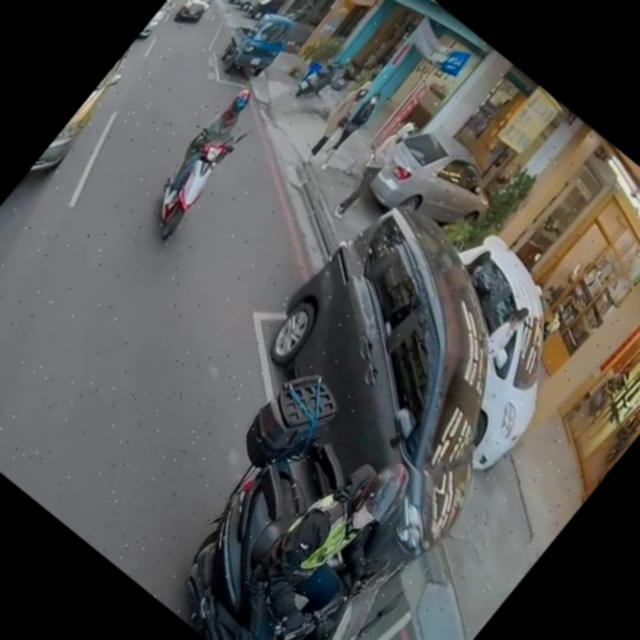person: (197, 423, 446, 640), (148, 80, 273, 222), (326, 107, 428, 225), (299, 74, 379, 165), (311, 84, 388, 174), (472, 300, 538, 372), (458, 238, 502, 284)
